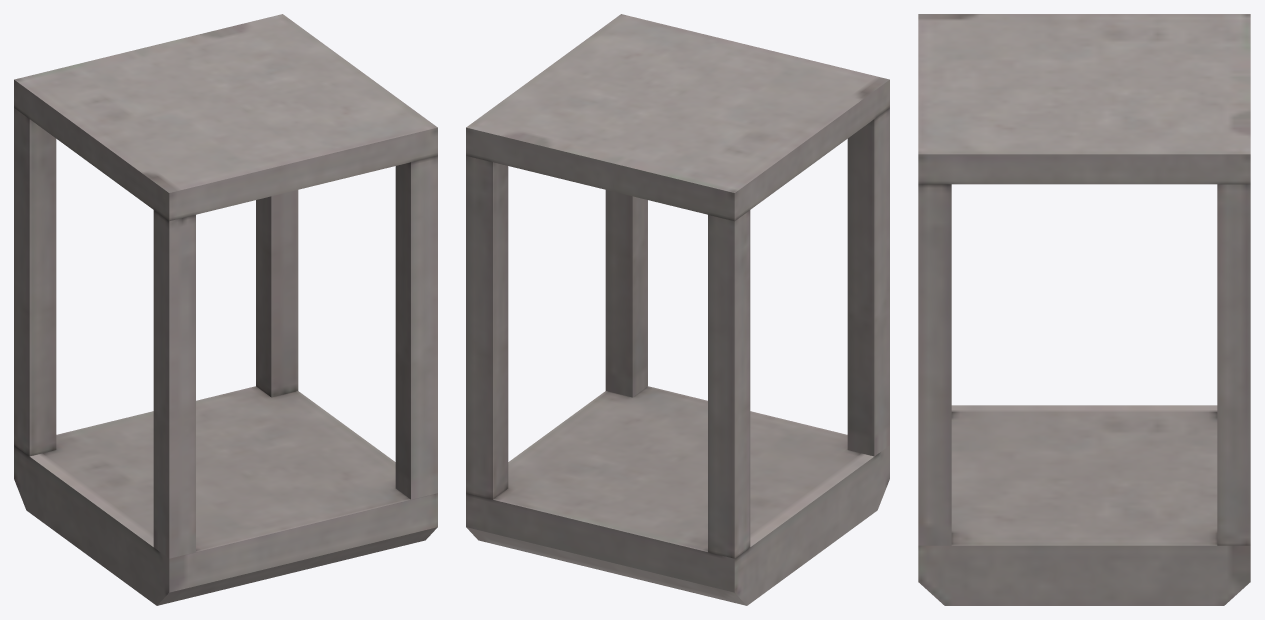
3 renders of one model, left to right at view 1: azimuth 30°, elevation 25°; view 2: azimuth 150°, elevation 25°; view 3: azimuth 270°, elevation 25°, orthographic. The views are drawn at different scales.
Visible parts, largest first — view 1: Cube, Cube.002, Cube.001, Cube.016, Cube.019, Cube.018; view 2: Cube, Cube.002, Cube.019, Cube.018, Cube.001, Cube.016; view 3: Cube, Cube.002, Cube.016, Cube.018.
Part boxes in pixels (x1,y1,x2,y2): Cube: (14, 386, 437, 605); Cube.002: (14, 14, 437, 221); Cube.001: (153, 210, 195, 558); Cube.016: (395, 155, 437, 499); Cube.019: (14, 108, 56, 456); Cube.018: (256, 190, 298, 397); Cube: (466, 386, 889, 605); Cube.002: (466, 14, 889, 221); Cube.019: (708, 210, 750, 558); Cube.018: (466, 155, 508, 499); Cube.001: (847, 108, 889, 456); Cube.016: (605, 190, 647, 397); Cube: (918, 405, 1250, 605); Cube.002: (918, 14, 1250, 184); Cube.016: (918, 184, 951, 545); Cube.018: (1217, 184, 1250, 545).
Size of the model in its own units: 4 by 6 by 4.
Materials: 1 (1 with a texture image).
